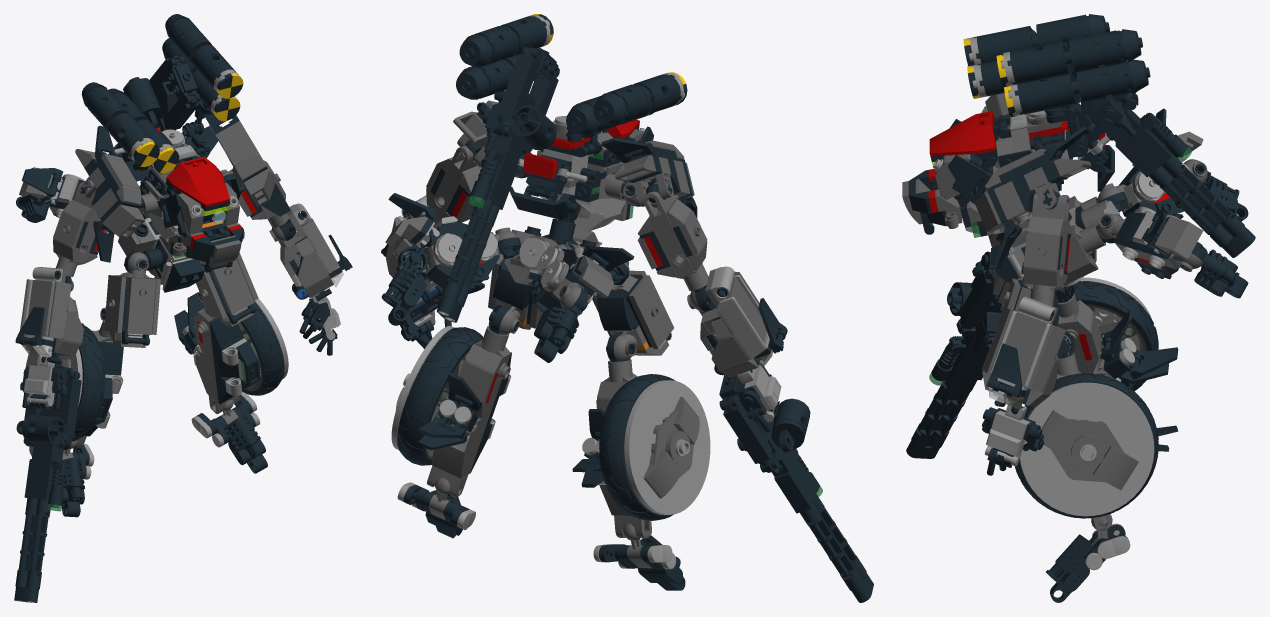
The model's file is rv-9625-cyclone-titan.dae.
3 renders of one model, left to right at view 1: azimuth 30°, elevation 25°; view 2: azimuth 150°, elevation 25°; view 3: azimuth 270°, elevation 25°, orthographic. The views are drawn at different scales.
Size of the model in its own units: 611 by 419 by 742.
